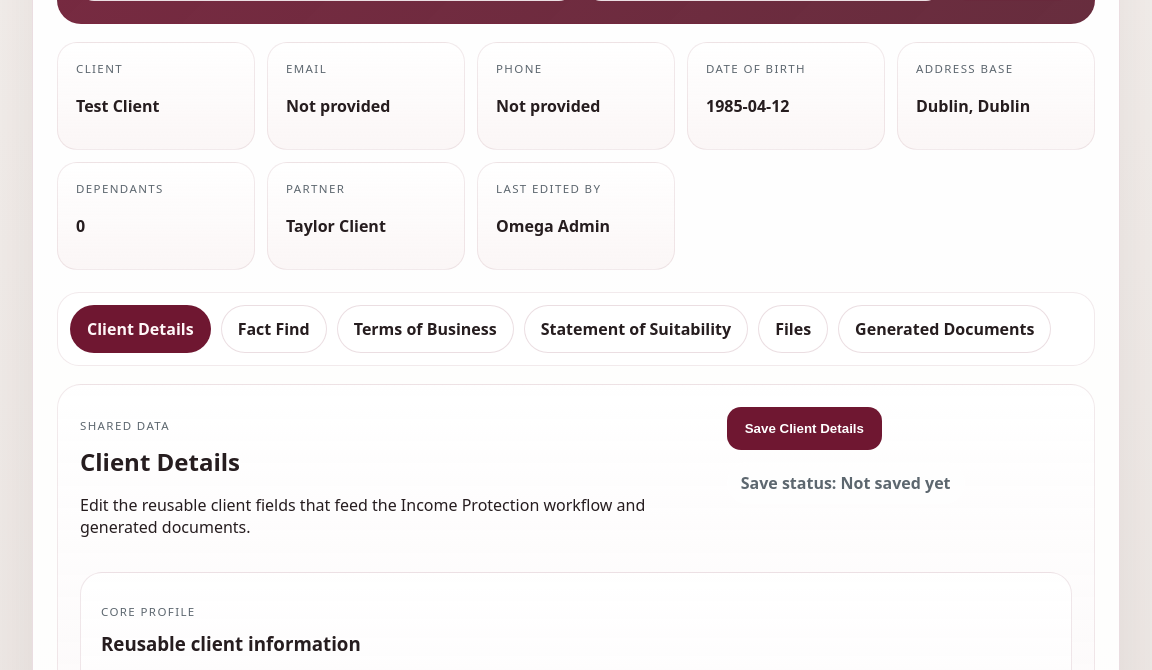
App routes › shows the Fact Find missing-field checklist before final generation without blocking draft save
(page scrolled)
Click the tab "Fact Find": [274, 329] box x1=221 y1=305 x2=327 y2=353
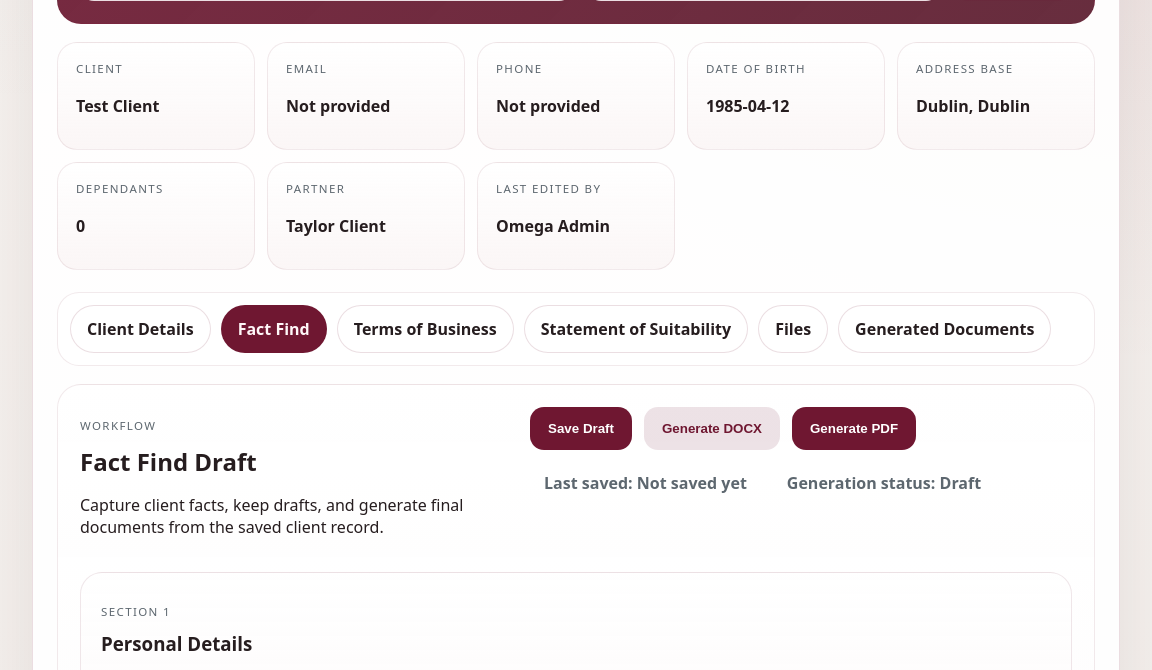
Click the button "Generate PDF": [854, 428] box x1=792 y1=407 x2=916 y2=450
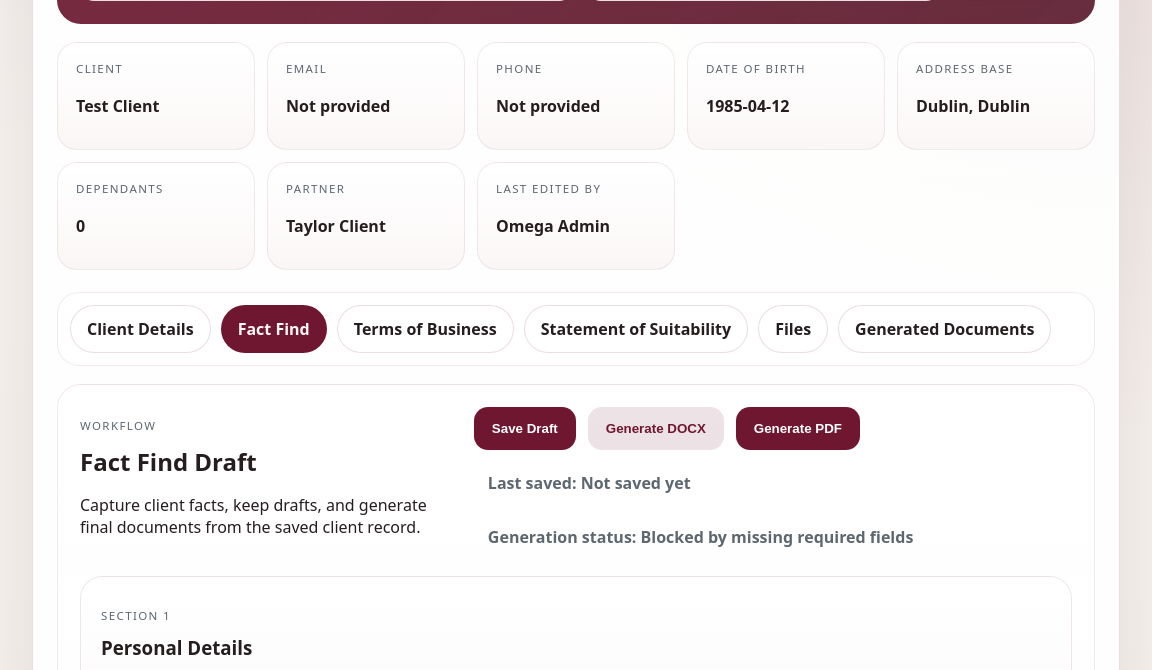
Now the text "Generation status: Blocked by missing required fields" is shown, box x1=474 y1=516 x2=927 y2=558
Click the button "Save Draft": [525, 428] box x1=474 y1=407 x2=576 y2=450
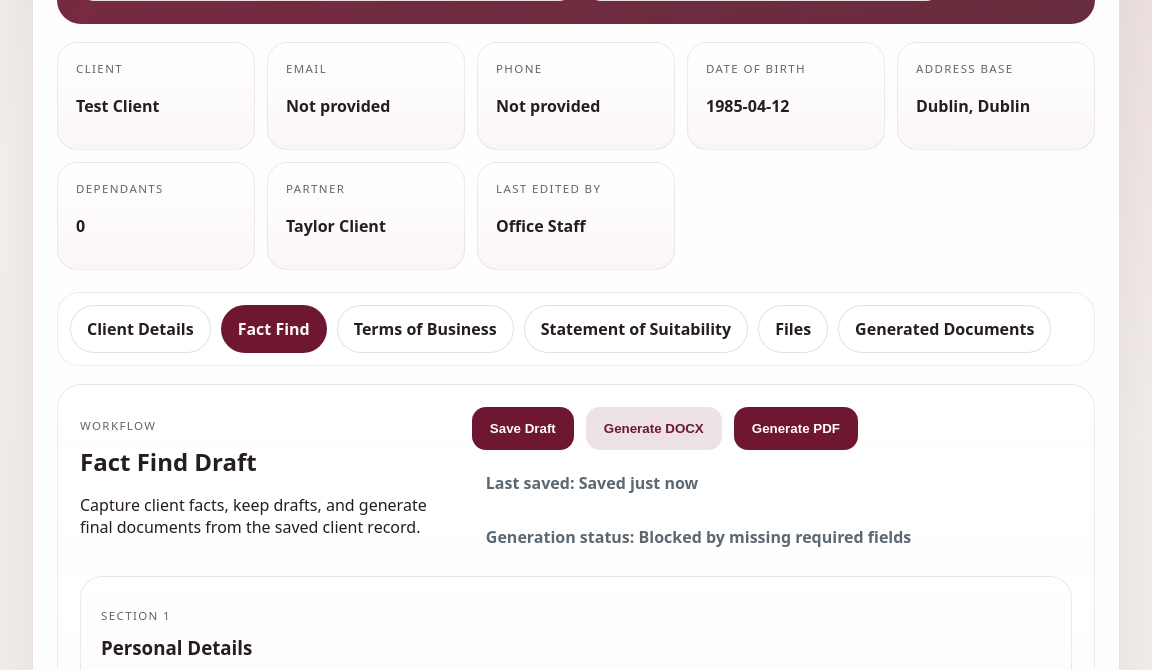
Now the text "Last saved: Saved just now" is shown, box x1=472 y1=462 x2=712 y2=504
